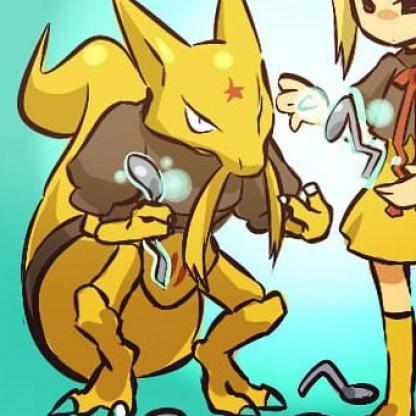Kadabra: (17, 1, 322, 416)
